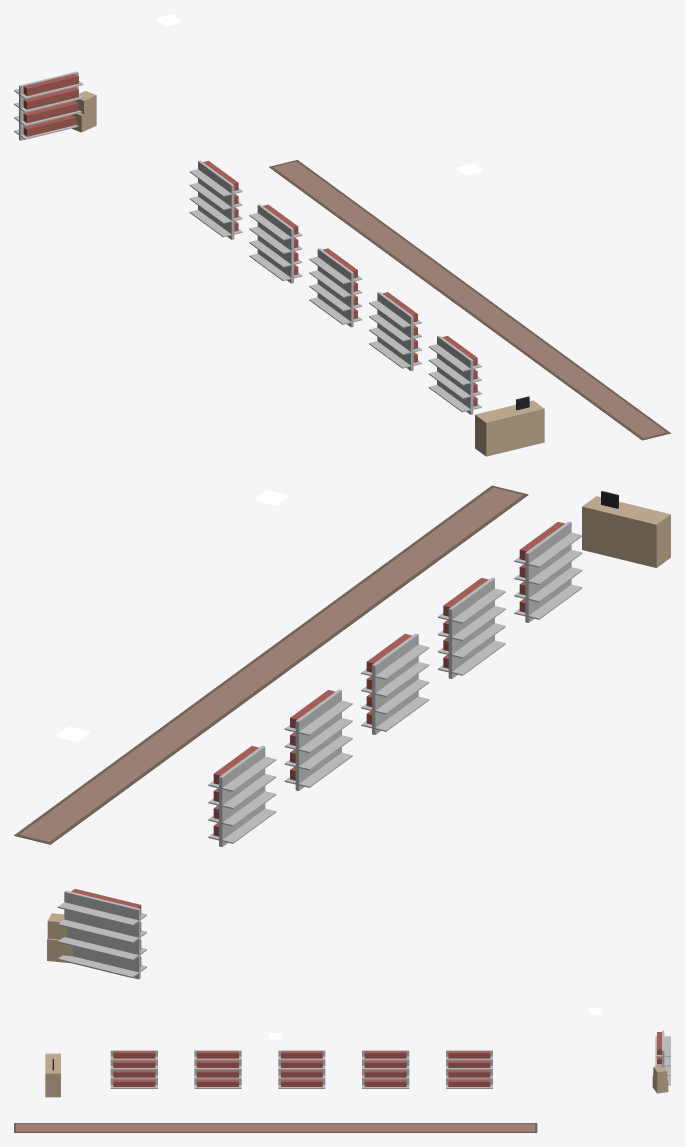
File: fine-s0.glb
3 renders of one model, top to bottom at view 1: azimuth 30°, elevation 25°; view 2: azimuth 150°, elevation 25°; view 3: azimuth 270°, elevation 25°, orthographic. The views are drawn at different scales.
Visible parts, largest first — view 1: soft-s0, shelving.000, shop-counter.000, shelf.001, shelf.000, shelf.004, shelf.002, shelf.003, cardboard-box.000; view 2: soft-s0, shelving.000, shop-counter.000, shelf.002, shelf.000, shelf.004, shelf.001, shelf.003, cardboard-box.000; view 3: soft-s0, shelf.001, shelf.002, shelf.003, shelf.004, shelf.000, shop-counter.000, shelving.000, cardboard-box.000.
Part boxes in pixels (left/top/right/bottom): soft-s0: left=269, top=160, right=670, bottom=440; shelving.000: left=14, top=71, right=83, bottom=140; shop-counter.000: left=475, top=396, right=544, bottom=456; shelf.001: left=249, top=204, right=302, bottom=283; shelf.000: left=189, top=160, right=242, bottom=239; shelf.004: left=428, top=335, right=481, bottom=414; shelf.002: left=309, top=248, right=362, bottom=327; shelf.003: left=369, top=292, right=421, bottom=370; cardboard-box.000: left=71, top=91, right=96, bottom=132; soft-s0: left=14, top=485, right=528, bottom=844; shelving.000: left=58, top=889, right=146, bottom=979; shop-counter.000: left=582, top=491, right=670, bottom=567; shelf.002: left=361, top=633, right=429, bottom=734; shelf.000: left=208, top=745, right=276, bottom=846; shelf.004: left=514, top=521, right=582, bottom=622; shelf.001: left=284, top=689, right=352, bottom=790; shelf.003: left=438, top=577, right=505, bottom=678; cardboard-box.000: left=47, top=913, right=72, bottom=963; soft-s0: left=14, top=1123, right=537, bottom=1132; shelf.001: left=362, top=1050, right=409, bottom=1088; shelf.002: left=278, top=1050, right=325, bottom=1088; shelf.003: left=194, top=1050, right=241, bottom=1088; shelf.004: left=110, top=1050, right=157, bottom=1088; shelf.000: left=446, top=1050, right=492, bottom=1088; shop-counter.000: left=45, top=1053, right=60, bottom=1097; shelving.000: left=655, top=1030, right=670, bottom=1085; cardboard-box.000: left=652, top=1066, right=668, bottom=1093.
Size of the model in its own units: 5.81 by 3.89 by 25.09.
